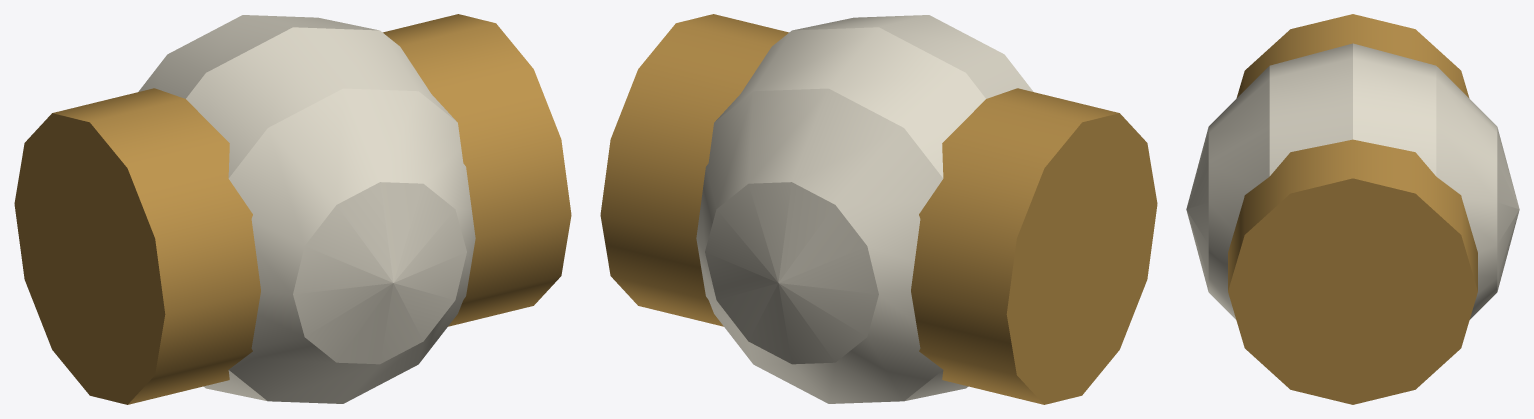
File: rm2_arm_r_shoulder.obj
3 views of the same model, side by side, from view 1: azimuth 30°, elevation 25°; view 2: azimuth 150°, elevation 25°; view 3: azimuth 270°, elevation 25° (orthographic). The views are drawn at different scales.
Parts seen in each view (by area): view 1: rm2_arm_r_shoulder; view 2: rm2_arm_r_shoulder; view 3: rm2_arm_r_shoulder.
Part boxes in pixels (bbox=[...]): rm2_arm_r_shoulder: bbox=[14, 14, 571, 404]; rm2_arm_r_shoulder: bbox=[600, 14, 1157, 404]; rm2_arm_r_shoulder: bbox=[1186, 14, 1519, 404].
Size of the model in its own units: 0.14 by 0.12 by 0.12.
